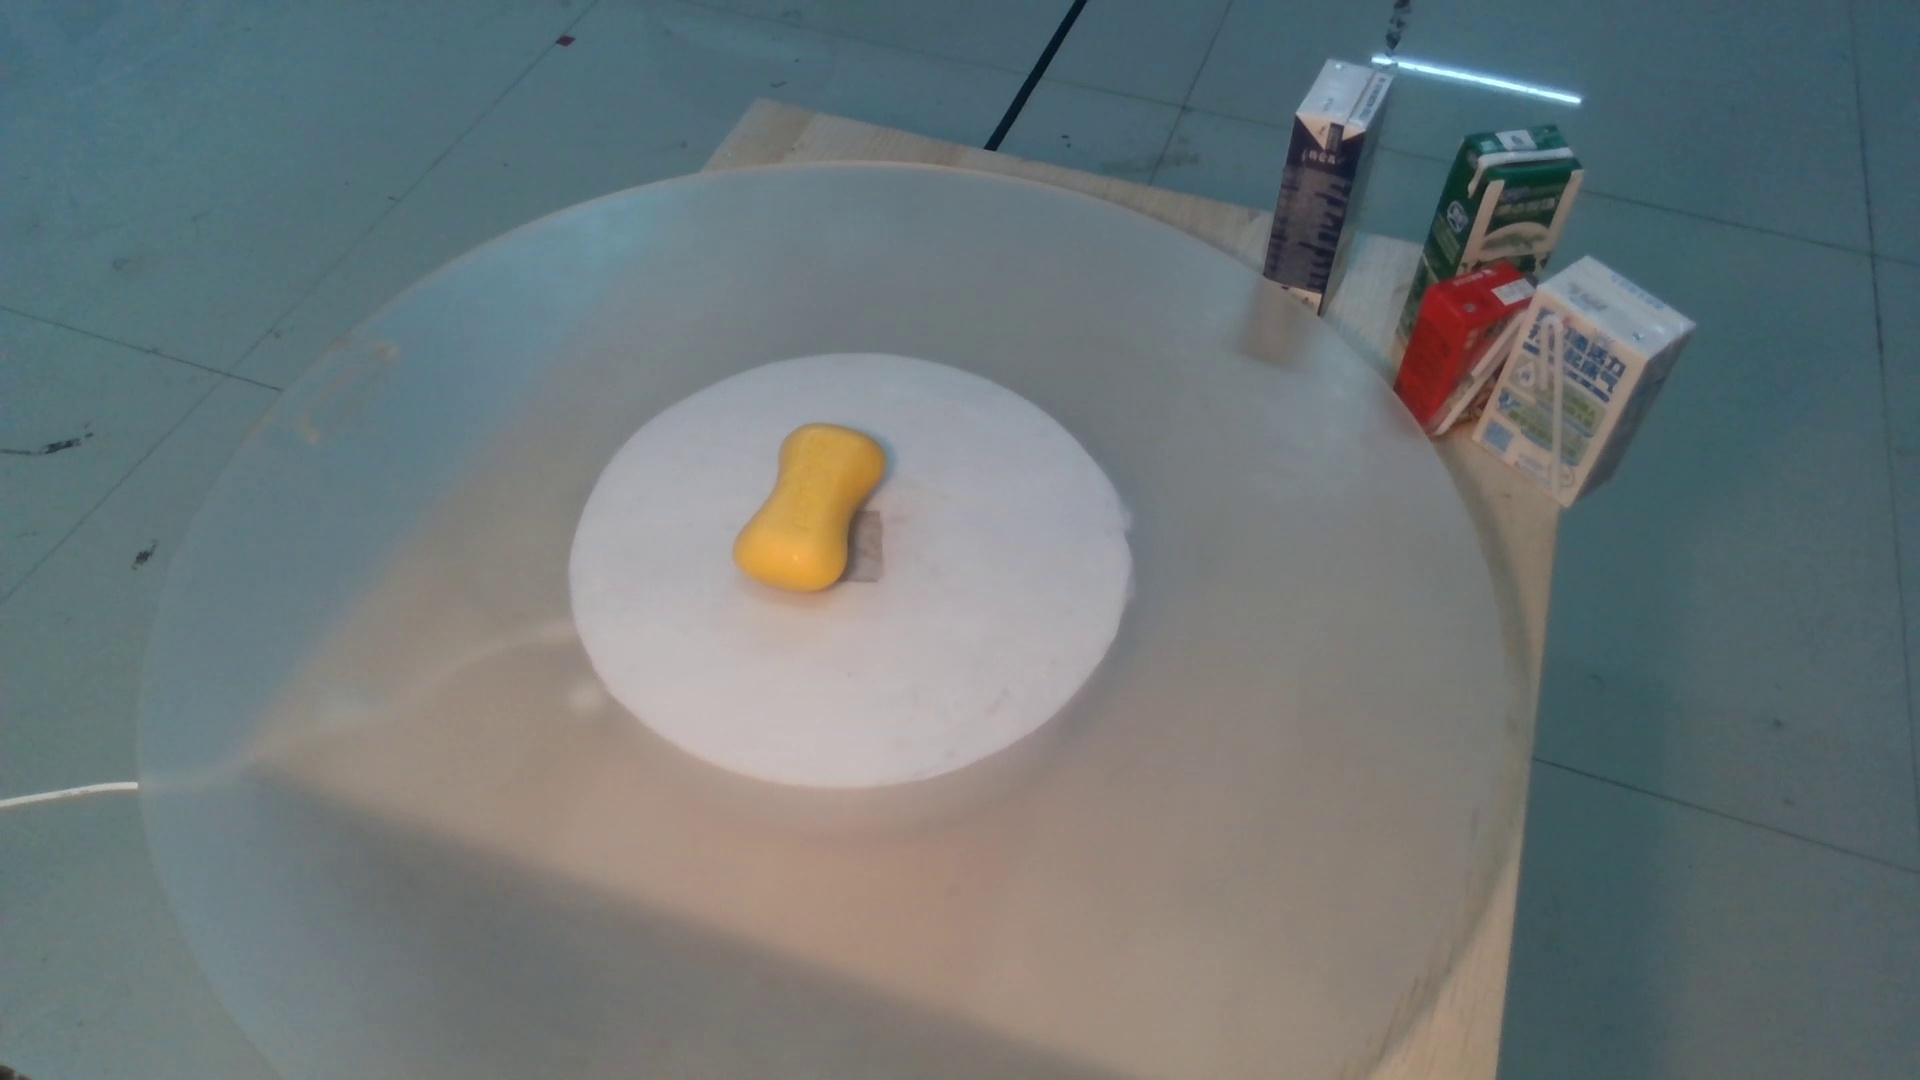CA003_1: (709, 417, 907, 595)
